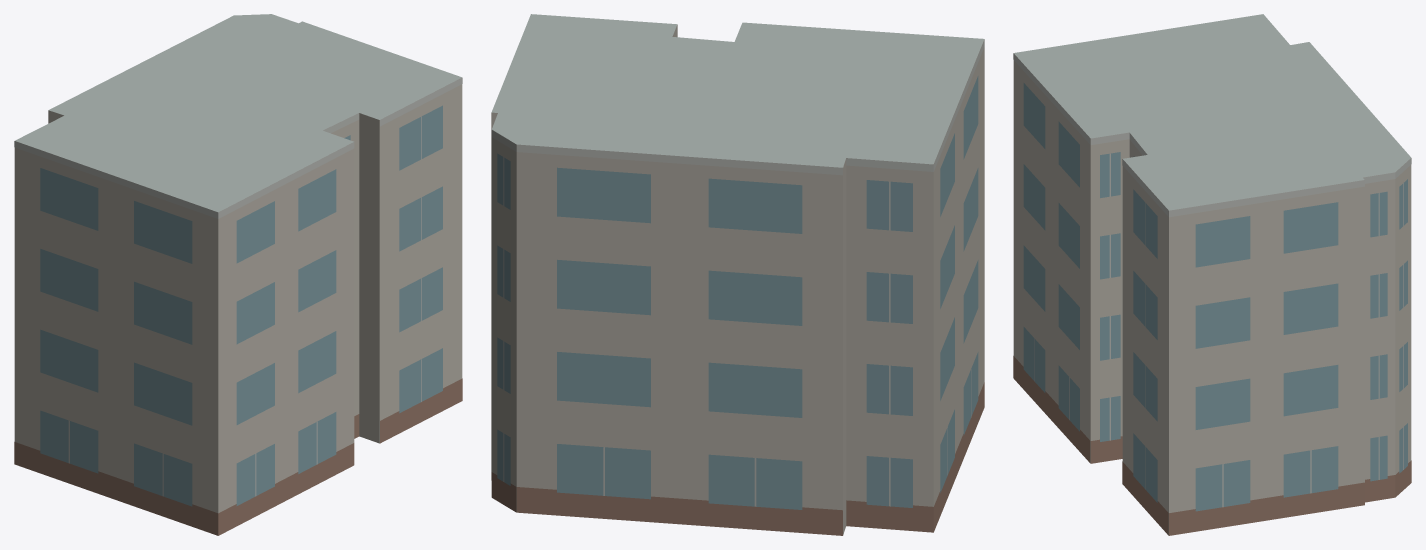
The model's file is survey-upis-32842300.glb.
3 renders of one model, left to right at view 1: azimuth 30°, elevation 25°; view 2: azimuth 150°, elevation 25°; view 3: azimuth 270°, elevation 25°, orthographic. The views are drawn at different scales.
Visible parts, largest first — view 1: survey-upis-32842300.tmp; view 2: survey-upis-32842300.tmp; view 3: survey-upis-32842300.tmp.
Boxes of the visible parts, left/top/right/bottom form: survey-upis-32842300.tmp: left=14, top=14, right=462, bottom=535; survey-upis-32842300.tmp: left=491, top=14, right=984, bottom=535; survey-upis-32842300.tmp: left=1013, top=14, right=1411, bottom=535.
Bounding box in the file's own units: 15.44 × 11.9 × 13.21.
